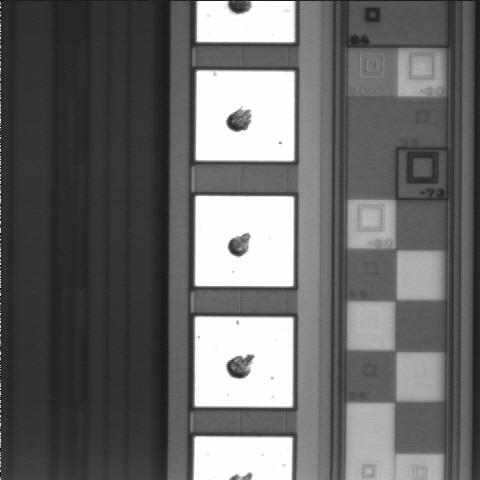pad: (195, 196, 294, 286), (196, 71, 294, 161), (195, 317, 293, 407)
